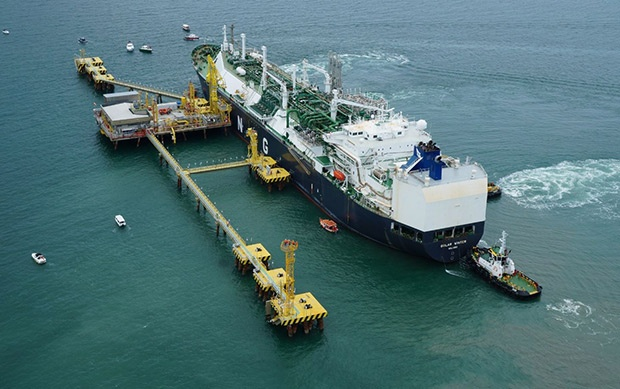Cargoship: (187, 32, 491, 259)
otherboat: (478, 225, 543, 302), (31, 247, 49, 268), (140, 42, 155, 54), (114, 215, 128, 226)
